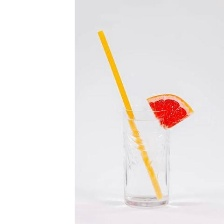drinking_straw: (92, 26, 168, 202)
glass: (118, 101, 172, 212)
